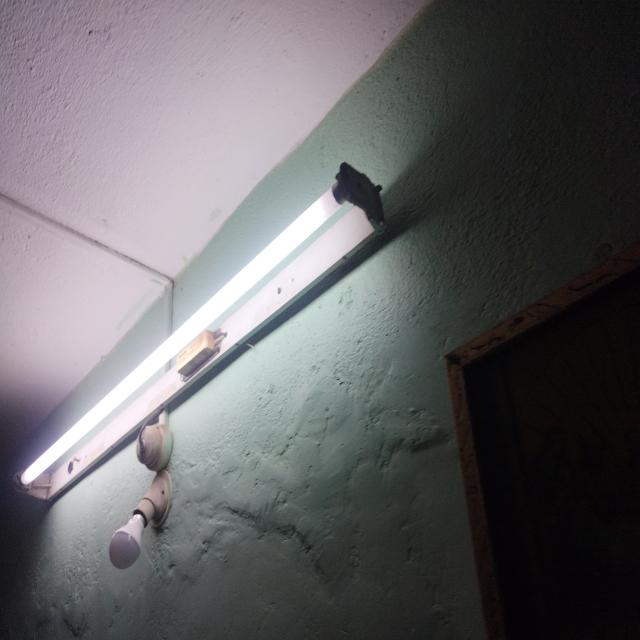tubelight_on: (6, 143, 404, 503)
